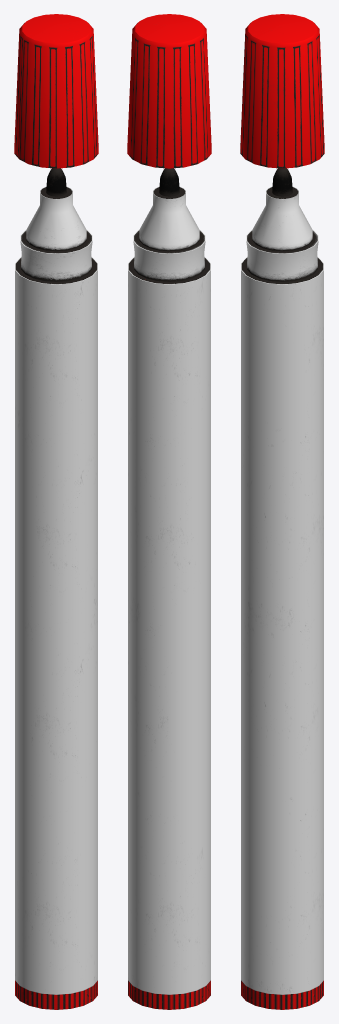
Rendered from Marker.fbx.
3 views of the same model, side by side, from view 1: azimuth 30°, elevation 25°; view 2: azimuth 210°, elevation 25°; view 3: azimuth 270°, elevation 25° (orthographic).
Parts seen in each view (by area): view 1: Pen_Pencil_0, Cap_Pencil_0; view 2: Pen_Pencil_0, Cap_Pencil_0; view 3: Pen_Pencil_0, Cap_Pencil_0.
Part boxes in pixels (x1,y1,x2,y2): Pen_Pencil_0: [15, 168, 97, 1009]; Cap_Pencil_0: [14, 14, 98, 168]; Pen_Pencil_0: [128, 168, 210, 1009]; Cap_Pencil_0: [127, 14, 211, 168]; Pen_Pencil_0: [241, 168, 323, 1009]; Cap_Pencil_0: [240, 14, 324, 168].
Size of the model in its own units: 18.95 by 237 by 18.67.
